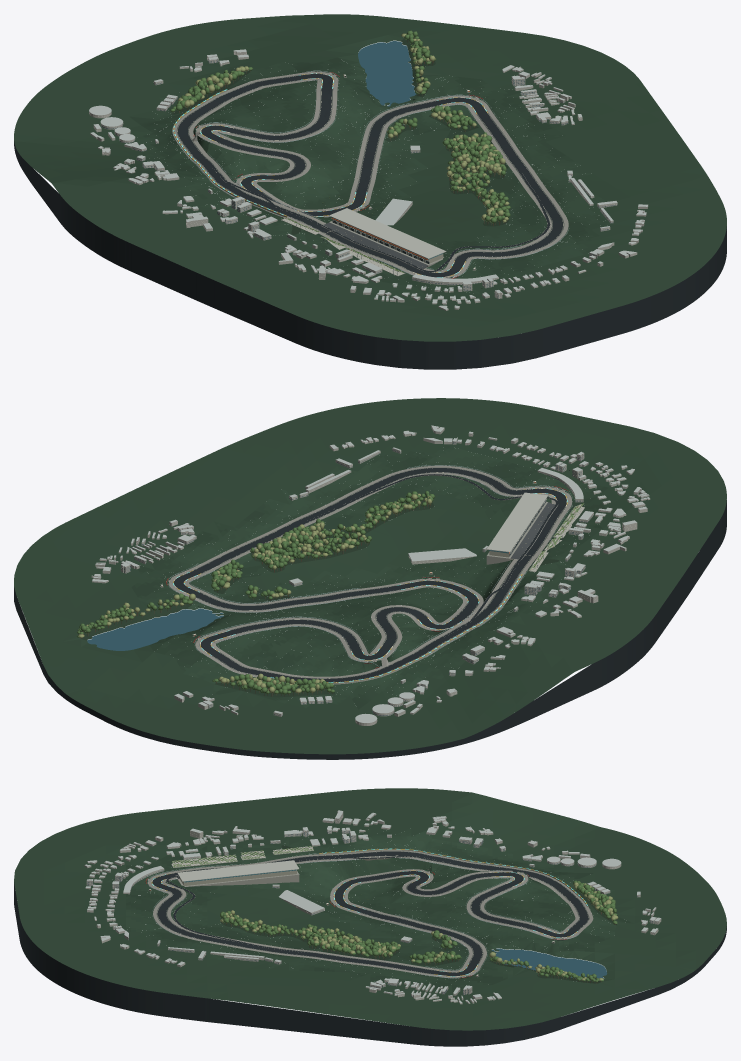
File: SaoPaulo.glb
3 views of the same model, one above another, from view 1: azimuth 30°, elevation 25°; view 2: azimuth 150°, elevation 25°; view 3: azimuth 270°, elevation 25° (orthographic). The views are drawn at different scales.
Visible parts, largest first — view 1: terrain/ground, terrain-skirt/dark, terrain-ground-finish-1, terrain-ground-finish-3, road/asphalt, terrain-ground-finish-2, terrain-ground-finish-0, runoff/gravel, terrain-ground-finish-4, water-1/water, scenery/leaves, shoulder/runoff (+14 smaller); view 2: terrain/ground, terrain-ground-finish-1, terrain-ground-finish-3, road/asphalt, terrain-ground-finish-2, terrain-skirt/dark, terrain-ground-finish-0, runoff/gravel, terrain-ground-finish-4, scenery/leaves, terrain-woodland/forestFloor, water-1/water (+14 smaller); view 3: terrain/ground, terrain-skirt/dark, terrain-ground-finish-1, terrain-ground-finish-3, terrain-ground-finish-2, terrain-ground-finish-0, road/asphalt, runoff/gravel, terrain-ground-finish-4, shoulder/runoff, scenery/leaves, scenery-detail-canopy/crown-leaves (+18 smaller).
Boxes of the visible parts, x1,y1,x2,y2 form: terrain/ground: (14,14,726,341); terrain-skirt/dark: (14,141,726,369); terrain-ground-finish-1: (143,60,607,294); terrain-ground-finish-3: (137,62,606,292); road/asphalt: (178,73,563,277); terrain-ground-finish-2: (136,62,611,292); terrain-ground-finish-0: (129,57,588,294); runoff/gravel: (172,71,568,278); terrain-ground-finish-4: (135,63,601,293); water-1/water: (358,41,416,106); scenery/leaves: (200,30,510,223); shoulder/runoff: (176,73,564,277); terrain/ground: (14,398,726,754); terrain-ground-finish-1: (134,445,603,702); terrain-ground-finish-3: (138,449,592,705); road/asphalt: (173,468,566,682); terrain-ground-finish-2: (137,446,597,704); terrain-skirt/dark: (14,500,726,759); terrain-ground-finish-0: (131,456,608,709); runoff/gravel: (169,465,572,684); terrain-ground-finish-4: (145,448,575,708); scenery/leaves: (77,491,435,693); terrain-woodland/forestFloor: (80,498,559,697); water-1/water: (87,608,223,650); terrain/ground: (14,788,726,1030); terrain-skirt/dark: (14,882,726,1046); terrain-ground-finish-1: (122,830,634,992); terrain-ground-finish-3: (111,828,625,982); terrain-ground-finish-2: (110,830,630,991); terrain-ground-finish-0: (126,841,630,990); road/asphalt: (152,851,588,976); runoff/gravel: (148,850,593,977); terrain-ground-finish-4: (106,832,616,980); shoulder/runoff: (151,851,589,976); scenery/leaves: (220,899,617,982); scenery-detail-canopy/crown-leaves: (307,880,615,964).
Size of the model in its own units: 1363 by 82.67 by 1749.
